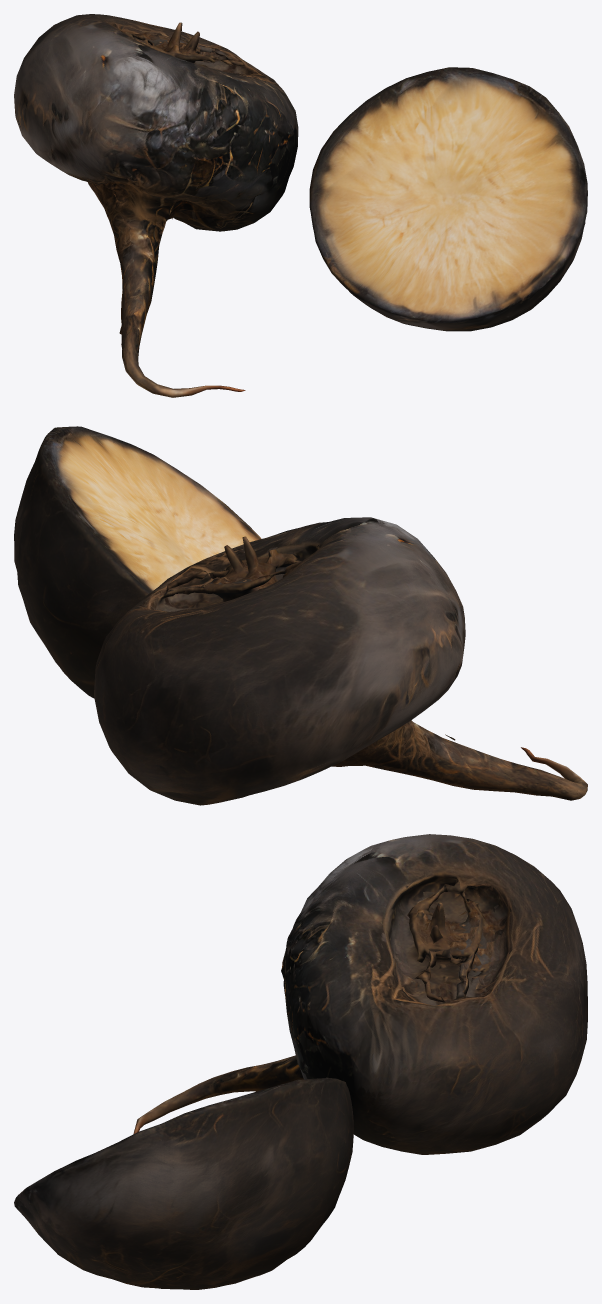
Rendered from black-maca.glb.
The picture shows the model from 3 angles, top to bottom: view 1: azimuth 30°, elevation 25°; view 2: azimuth 150°, elevation 25°; view 3: azimuth 270°, elevation 25°; orthographic projection. The views are drawn at different scales.
Visible parts, largest first — view 1: model; view 2: model; view 3: model.
Boxes of the visible parts, x1,y1,x2,y2 form: model: [14, 14, 587, 397]; model: [14, 426, 587, 805]; model: [14, 834, 587, 1289].
Bounding box in the file's own units: 1.85 × 1.1 × 1.86.
Materials: 1 (1 with a texture image).
